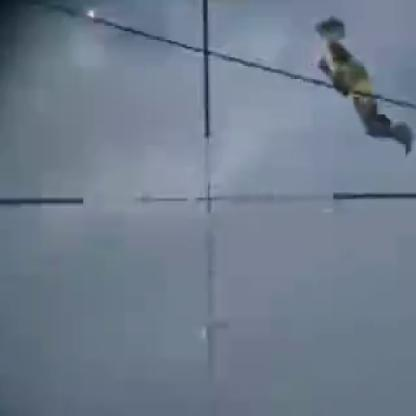enemy: (314, 38, 414, 162)
